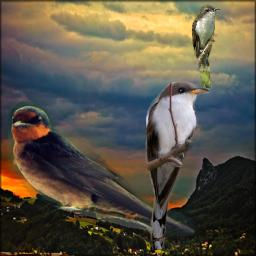Cuckoo: (144, 80, 210, 250), (192, 3, 220, 88)
Swallow: (8, 102, 196, 236)
